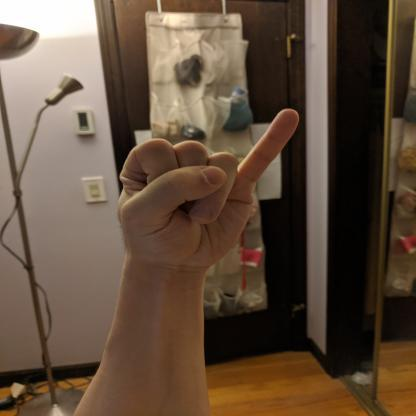I: (112, 104, 304, 272)
